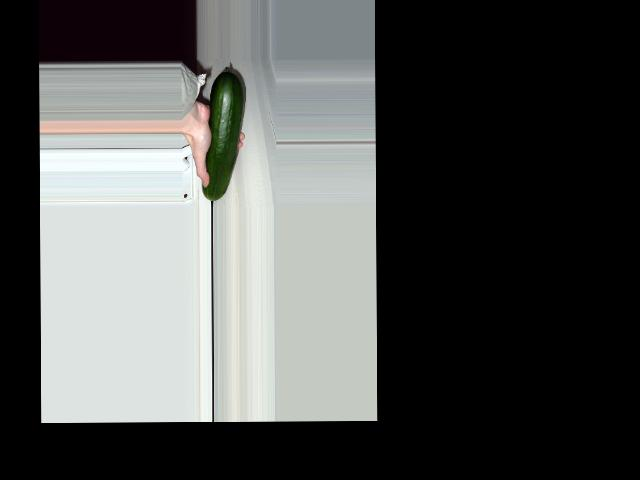cucumber: (201, 66, 246, 200)
